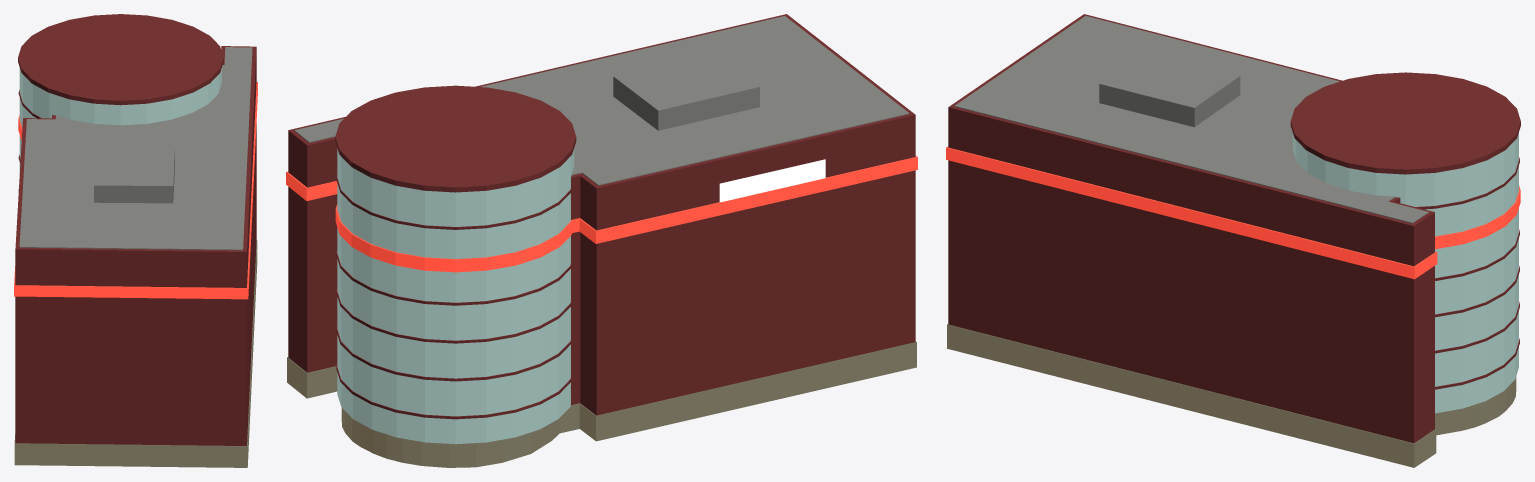
The model's file is shin_kong_mitsukoshi.glb.
3 renders of one model, left to right at view 1: azimuth 30°, elevation 25°; view 2: azimuth 150°, elevation 25°; view 3: azimuth 270°, elevation 25°, orthographic. The views are drawn at different scales.
Parts seen in each view (by area): view 1: body_wine_box, roof_parapet_inner, round_tower_crown, body_shopfront_band, roof_mech_box, round_tower_glass, body_red_band; view 2: body_wine_box, round_tower_glass, roof_parapet_inner, round_tower_crown, body_shopfront_band, roof_mech_box, body_red_band, round_tower_red_band, sign:新光三越, round_tower_floor_ring_3, round_tower_floor_ring_5, round_tower_floor_ring_1 (+2 smaller); view 3: body_wine_box, roof_parapet_inner, round_tower_glass, round_tower_crown, body_shopfront_band, roof_mech_box, body_red_band, round_tower_red_band.
Boxes of the visible parts, x1,y1,x2,y2 form: body_wine_box: [15, 46, 256, 445]; roof_parapet_inner: [19, 47, 252, 250]; round_tower_crown: [18, 14, 223, 105]; body_shopfront_band: [14, 240, 257, 467]; roof_mech_box: [94, 143, 174, 203]; round_tower_glass: [19, 68, 221, 172]; body_red_band: [14, 82, 257, 299]; body_wine_box: [288, 14, 915, 415]; round_tower_glass: [337, 148, 574, 444]; roof_parapet_inner: [294, 16, 909, 185]; round_tower_crown: [335, 85, 576, 192]; body_shopfront_band: [287, 341, 916, 467]; roof_mech_box: [613, 52, 759, 130]; body_red_band: [286, 156, 917, 243]; round_tower_red_band: [335, 204, 572, 272]; sign:新光三越: [719, 159, 825, 202]; round_tower_floor_ring_3: [336, 250, 571, 305]; round_tower_floor_ring_5: [336, 174, 571, 229]; round_tower_floor_ring_1: [336, 326, 571, 381]; body_wine_box: [948, 14, 1434, 443]; roof_parapet_inner: [954, 16, 1428, 223]; round_tower_glass: [1292, 133, 1518, 413]; round_tower_crown: [1290, 72, 1520, 174]; body_shopfront_band: [947, 324, 1516, 467]; roof_mech_box: [1099, 51, 1240, 127]; body_red_band: [946, 146, 1437, 279]; round_tower_red_band: [1435, 185, 1520, 249].
Bounding box in the file's own units: 114 × 67.2 × 130.
